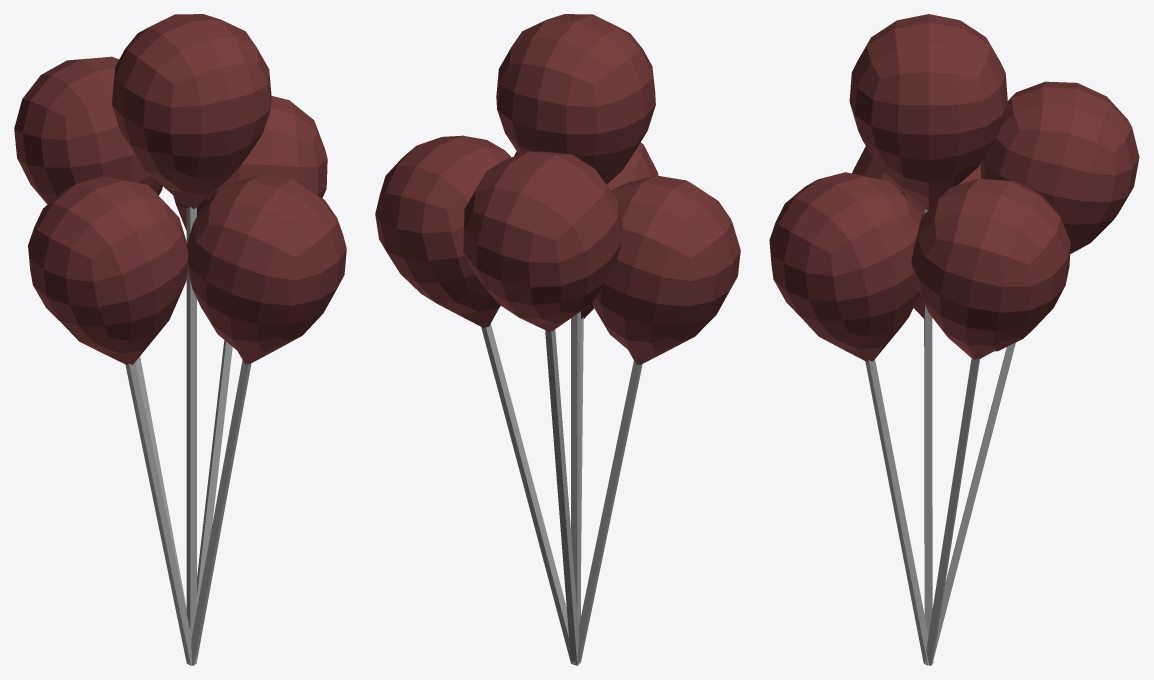
Rendered from Balloons.fbx.
3 renders of one model, left to right at view 1: azimuth 30°, elevation 25°; view 2: azimuth 150°, elevation 25°; view 3: azimuth 270°, elevation 25°, orthographic.
Parts seen in each view (by area): view 1: Balloon_02, Balloon_05, Balloon_01, Balloon_04, Balloon_03; view 2: Balloon_04, Balloon_02, Balloon_05, Balloon_03, Balloon_01; view 3: Balloon_02, Balloon_01, Balloon_03, Balloon_04, Balloon_05.
Boxes of the visible parts, x1,y1,x2,y2 form: Balloon_02: (112, 14, 271, 664); Balloon_05: (28, 176, 192, 665); Balloon_01: (187, 174, 346, 665); Balloon_04: (14, 56, 190, 664); Balloon_03: (173, 96, 327, 664); Balloon_04: (463, 151, 622, 665); Balloon_02: (496, 14, 655, 664); Balloon_05: (571, 175, 740, 665); Balloon_03: (375, 135, 580, 664); Balloon_01: (514, 142, 658, 663); Balloon_02: (849, 14, 1007, 664); Balloon_01: (769, 172, 933, 665); Balloon_03: (911, 178, 1070, 665); Balloon_04: (931, 81, 1139, 664); Balloon_05: (852, 146, 980, 663).
Size of the model in its own units: 191 by 378 by 198.
